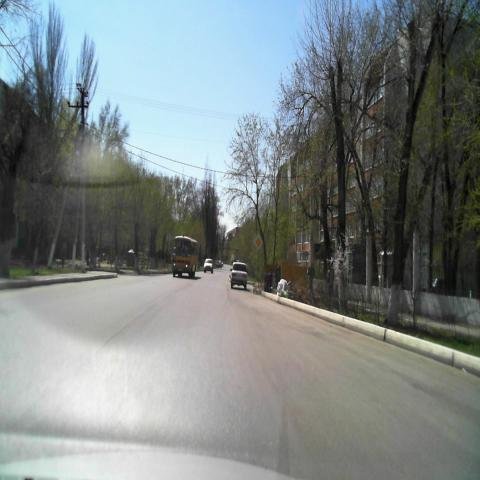2_1: (254, 235, 263, 251)
